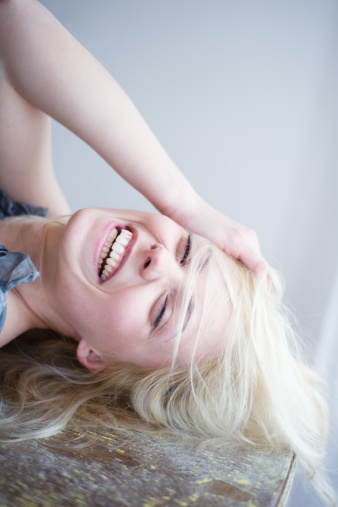deitado: (0, 116, 329, 478)
